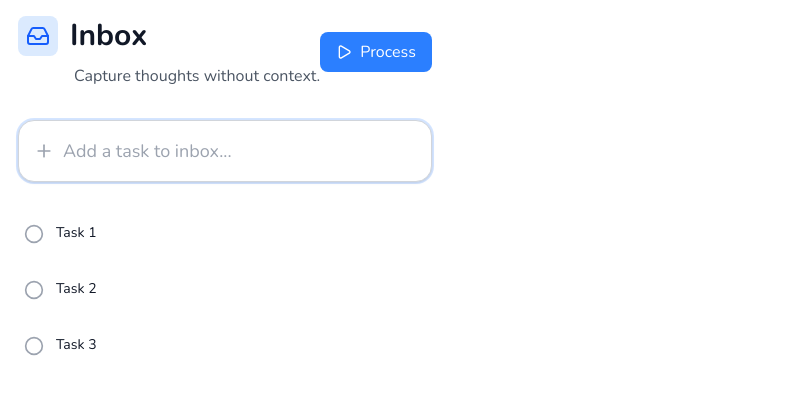
InboxView Processing Mode › advances to next task when Skip is clicked
The image size is (799, 411).
What coordinates should you click on to do the following:
click the button "Process"
I would click on:
 (376, 52)
Its box is x1=320 y1=32 x2=432 y2=72.
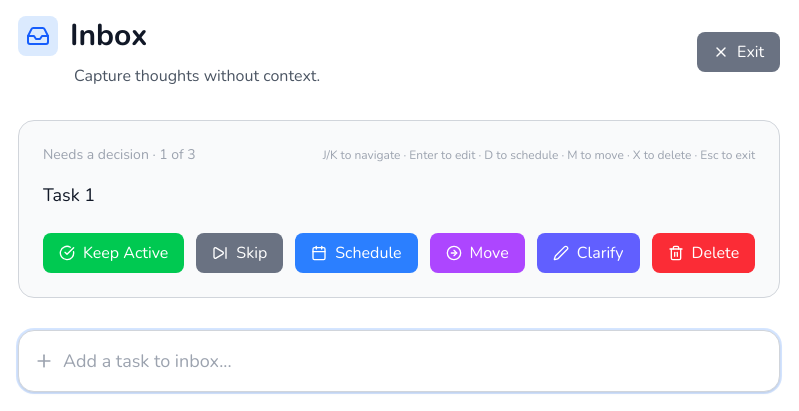
Result: the text "Task 1" is shown at x1=43 y1=183 x2=95 y2=207
What coordinates should you click on to do the following:
click the button "Skip"
I would click on:
 (240, 253)
Its box is x1=196 y1=233 x2=283 y2=273.
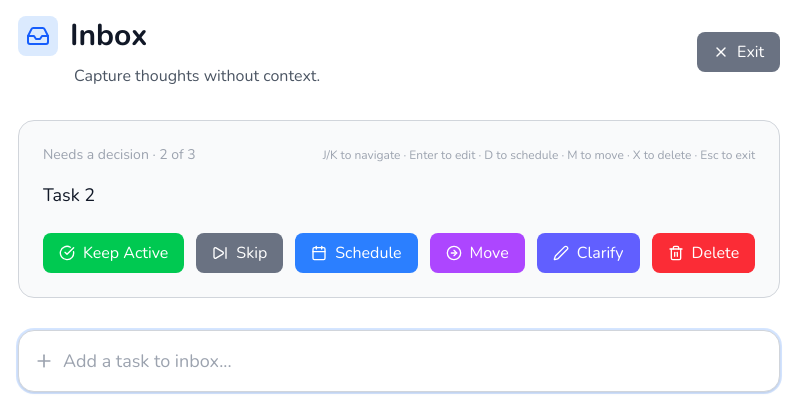
Result: the text "Task 2" is shown at x1=43 y1=183 x2=95 y2=207
Result: the text "Needs a decision · 2 of 3" is shown at x1=43 y1=145 x2=196 y2=165
